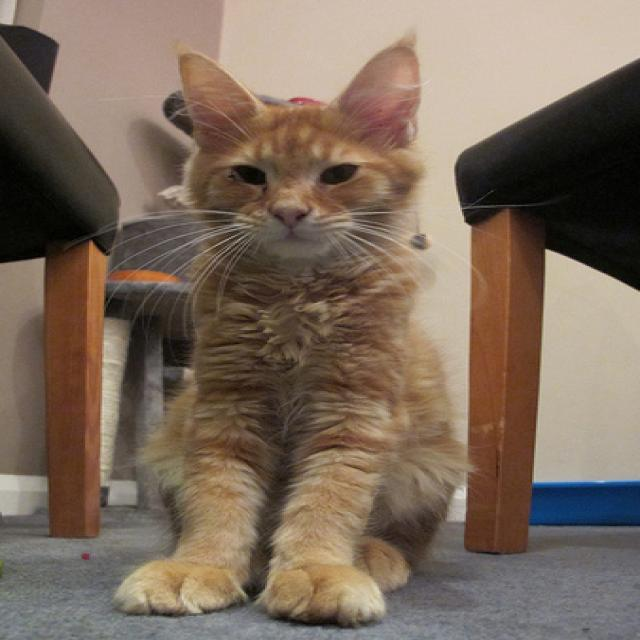Maine Coon: (111, 36, 472, 630)
